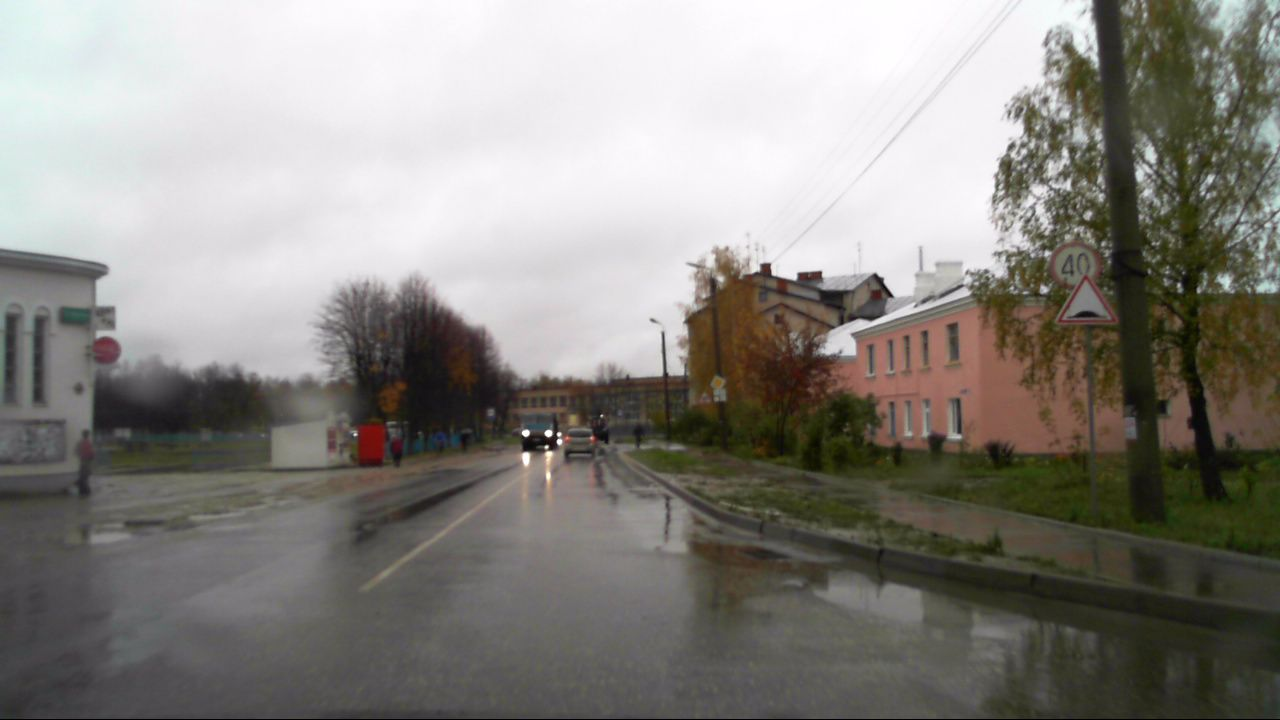speed_warning_40: (1050, 241, 1099, 288)
